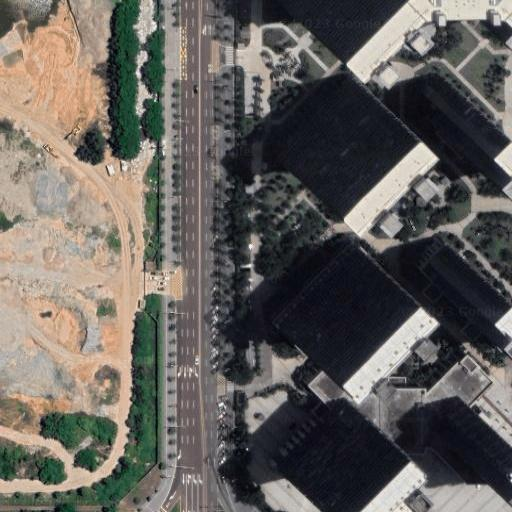building: (307, 346, 493, 453), (280, 76, 377, 174), (277, 238, 374, 336), (423, 243, 512, 341), (280, 399, 371, 491), (430, 77, 512, 175), (445, 400, 512, 496), (285, 0, 339, 24), (368, 206, 402, 240), (442, 177, 452, 186)
